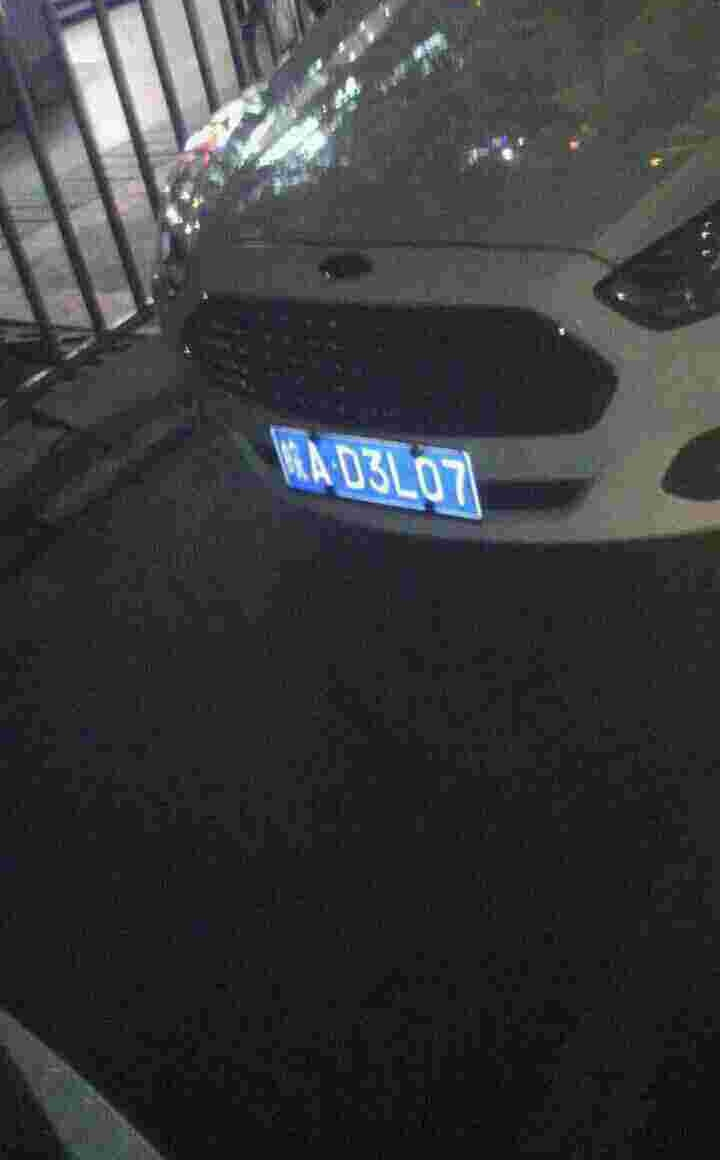car: (263, 414, 486, 520)
